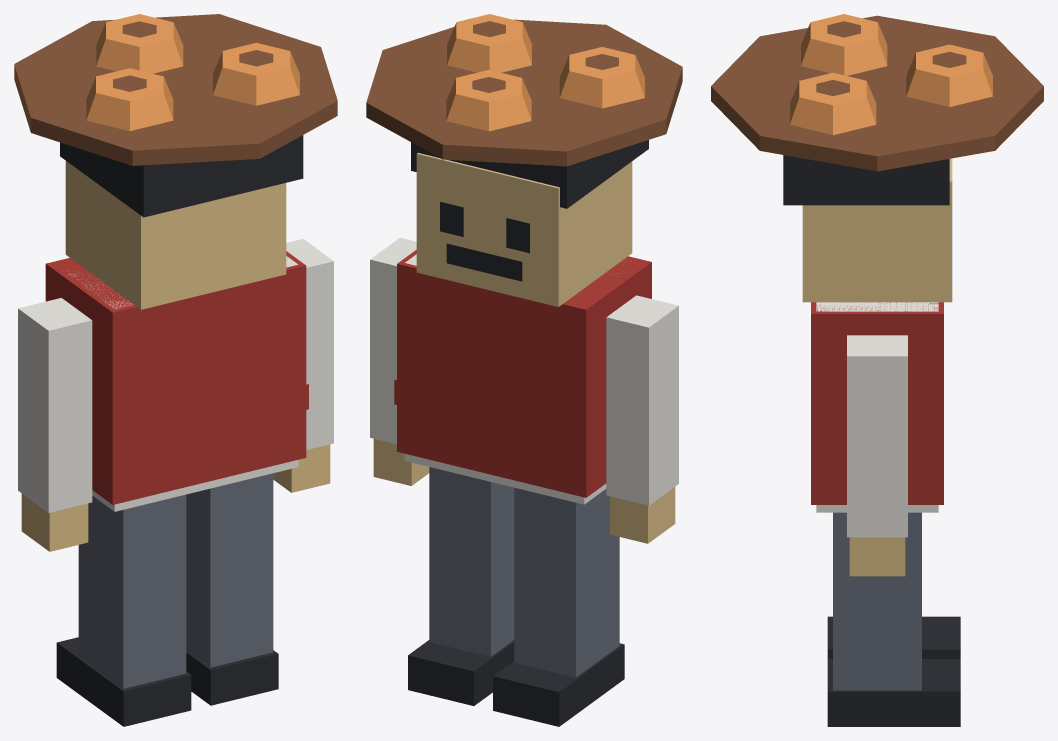
File: H_SimitSeller.fbx
The picture shows the model from 3 angles, left to right: view 1: azimuth 30°, elevation 25°; view 2: azimuth 150°, elevation 25°; view 3: azimuth 270°, elevation 25°; orthographic projection. The views are drawn at different scales.
Parts seen in each view (by area): view 1: H_SimitSeller; view 2: H_SimitSeller; view 3: H_SimitSeller.
Boxes of the visible parts, x1,y1,x2,y2 form: H_SimitSeller: [14, 14, 337, 726]; H_SimitSeller: [366, 14, 682, 726]; H_SimitSeller: [711, 14, 1043, 726].
Size of the model in its own units: 0.6 by 1.25 by 0.6.
